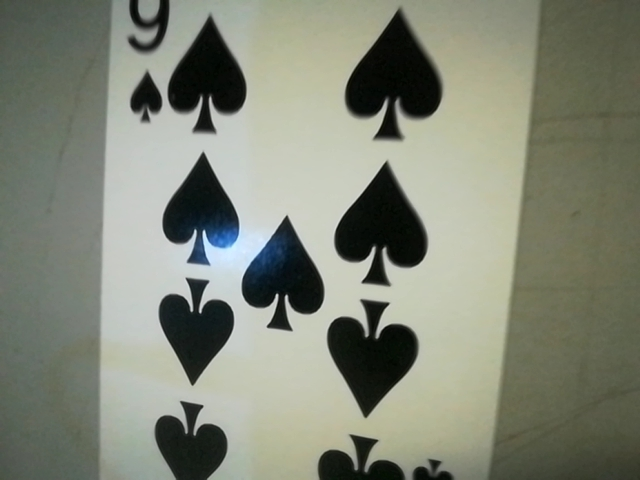ht 9: (111, 0, 180, 131)
